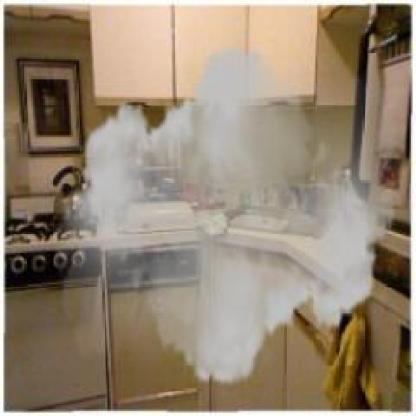Smoke: (55, 32, 404, 400)
